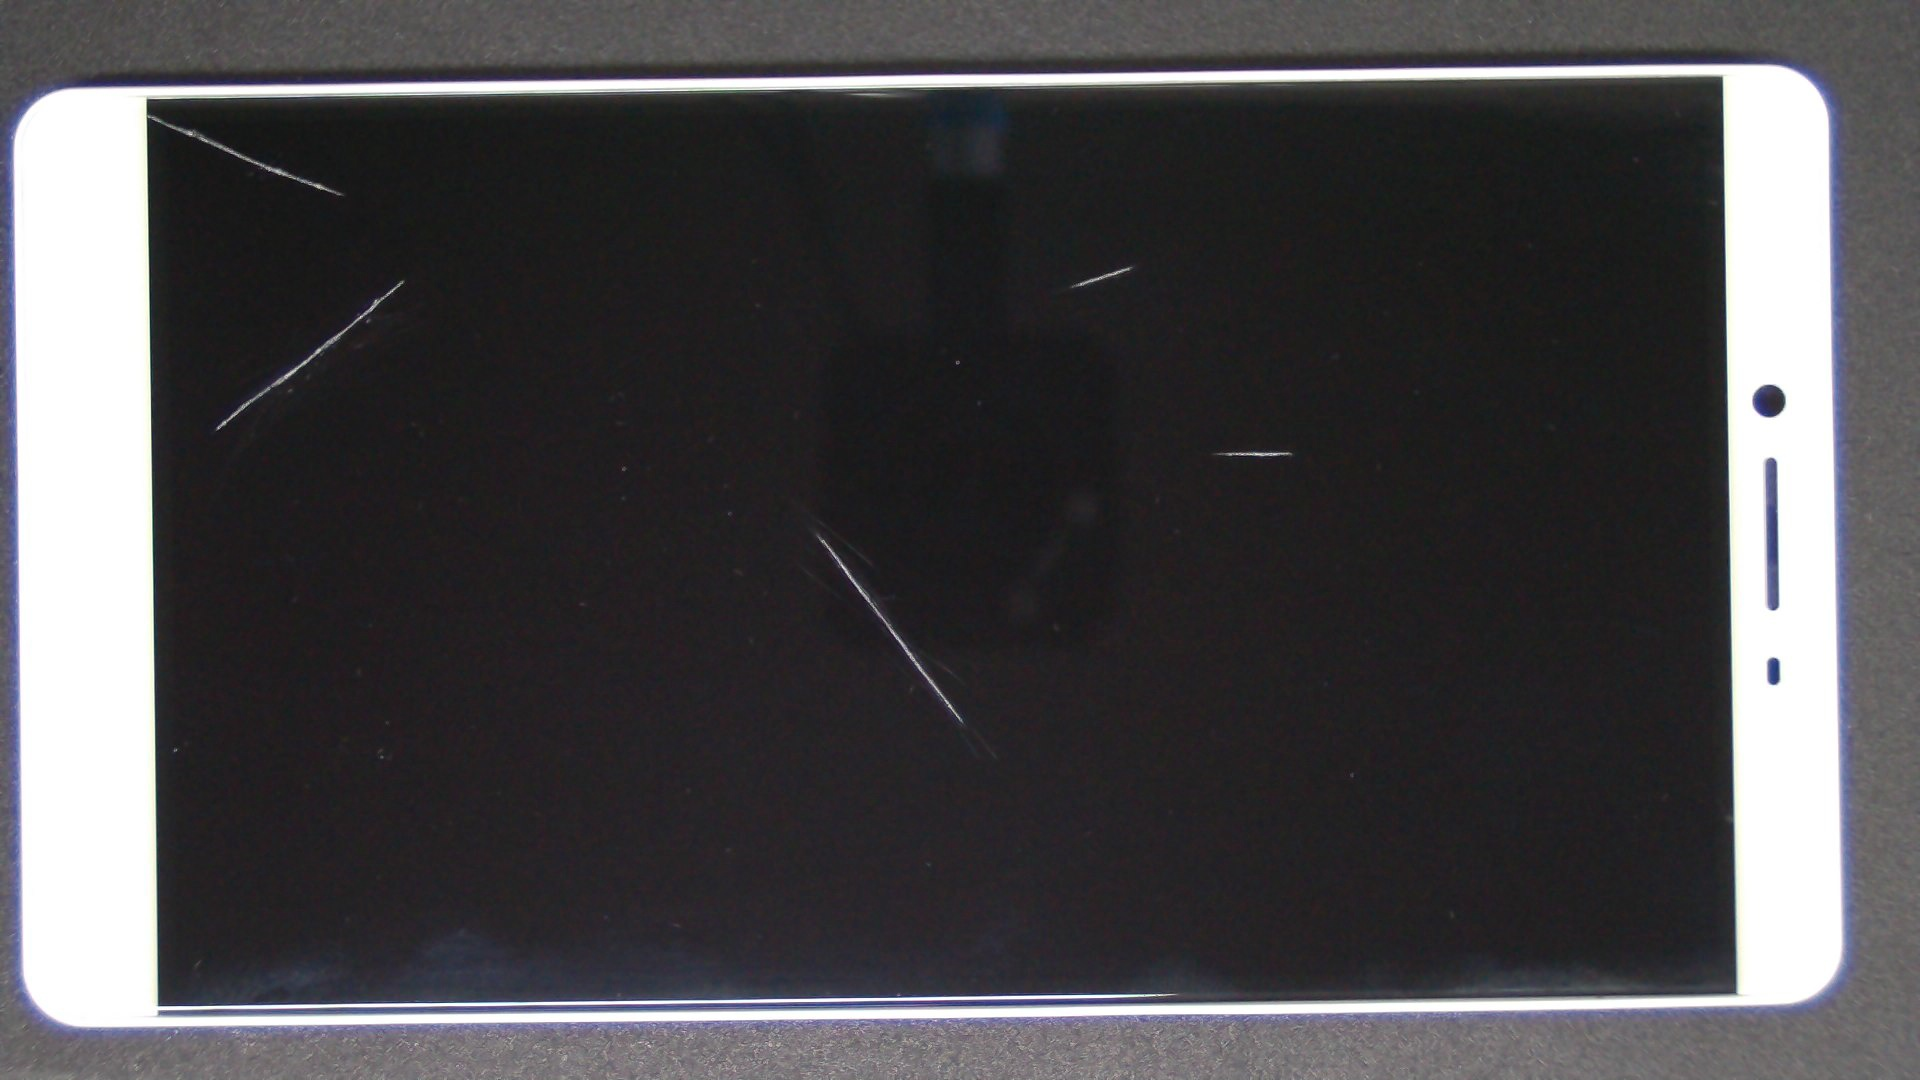oil: (611, 225, 1832, 676), (407, 265, 1222, 799), (566, 132, 1696, 398), (203, 138, 601, 419), (75, 57, 223, 171)
